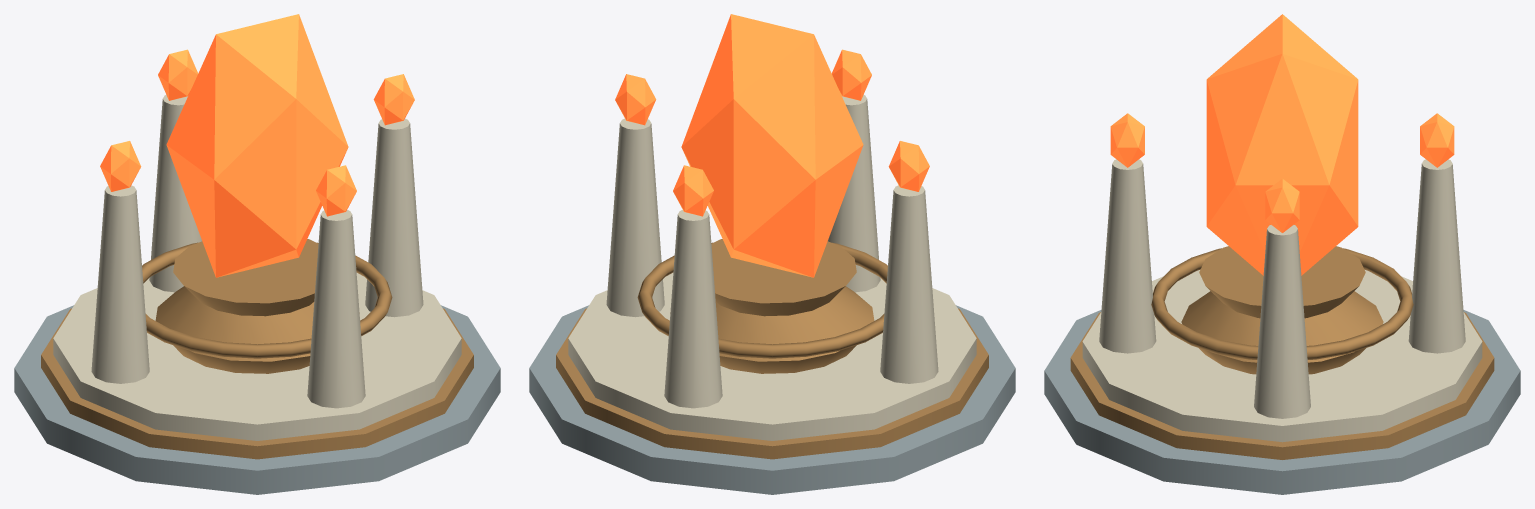
The model's file is sunfall-rift-moba-ember-core-41e0b593__21982.glb.
3 renders of one model, left to right at view 1: azimuth 30°, elevation 25°; view 2: azimuth 150°, elevation 25°; view 3: azimuth 270°, elevation 25°, orthographic. The views are drawn at different scales.
Parts seen in each view (by area): view 1: ember-core; view 2: ember-core; view 3: ember-core.
Boxes of the visible parts, <box> form: ember-core: <box>14,14,500,494</box>; ember-core: <box>529,14,1015,494</box>; ember-core: <box>1044,14,1520,494</box>.
Size of the model in its own units: 4 by 3.34 by 4.
